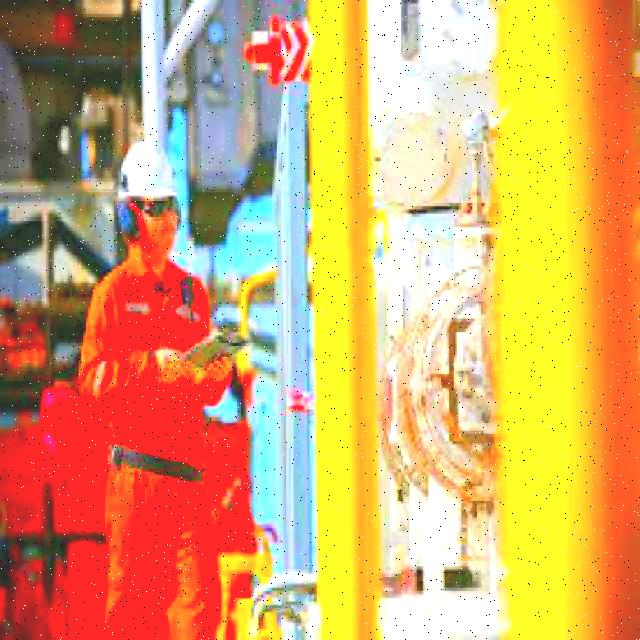Helmet: (122, 136, 178, 190)
Mask: (86, 267, 231, 638)
